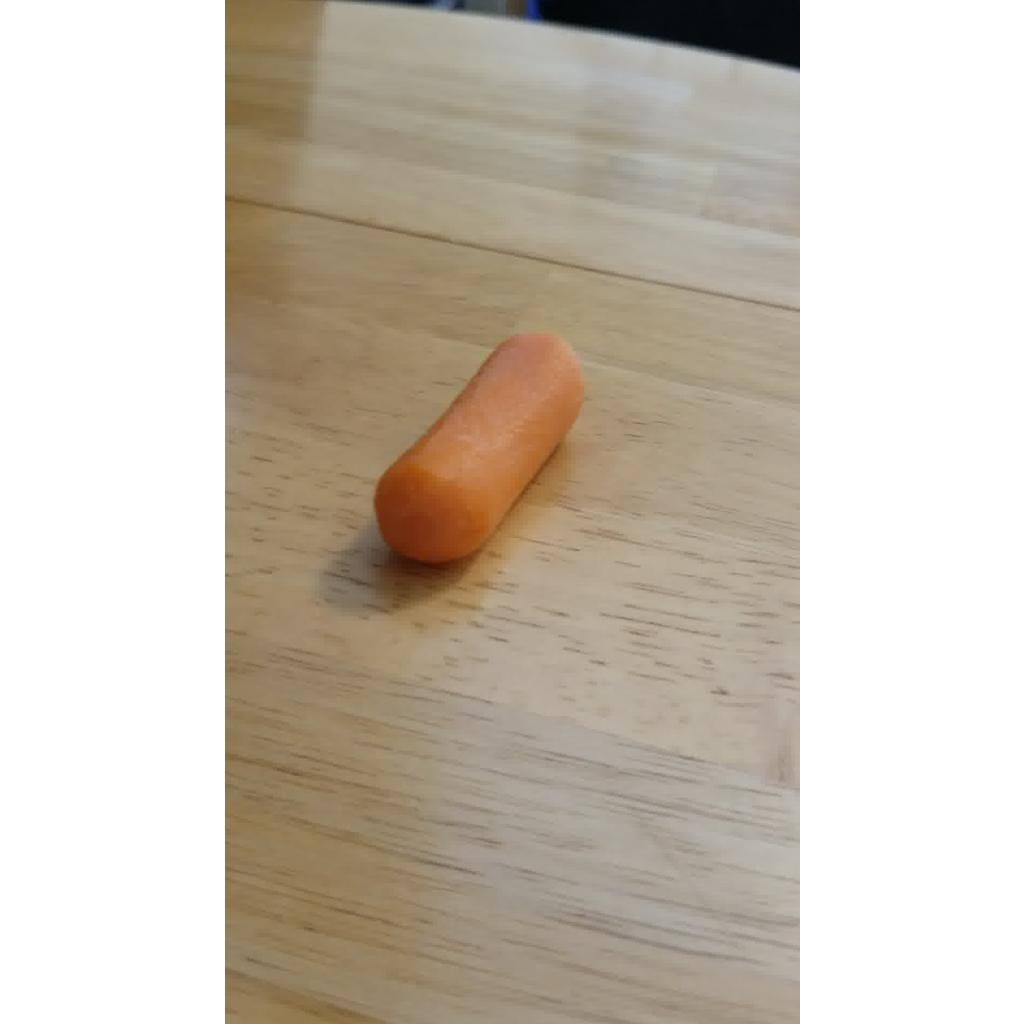carrot: (374, 334, 584, 564)
